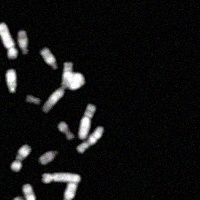chromosome: (42, 62, 73, 114), (77, 127, 105, 153), (78, 103, 96, 139), (0, 22, 17, 60), (57, 177, 80, 200), (10, 146, 30, 171), (43, 173, 81, 184), (61, 72, 84, 90), (40, 47, 57, 69), (4, 68, 18, 94), (16, 31, 29, 55), (23, 182, 40, 200), (39, 148, 59, 163), (57, 120, 72, 139), (25, 94, 41, 105), (2, 196, 24, 200)
